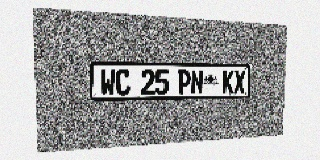2: (141, 69, 155, 95)
5: (155, 70, 169, 95)
C: (116, 69, 130, 96)
K: (222, 70, 234, 94)
N: (191, 70, 203, 94)
P: (178, 70, 191, 94)
W: (100, 69, 115, 96)
X: (234, 70, 245, 93)
